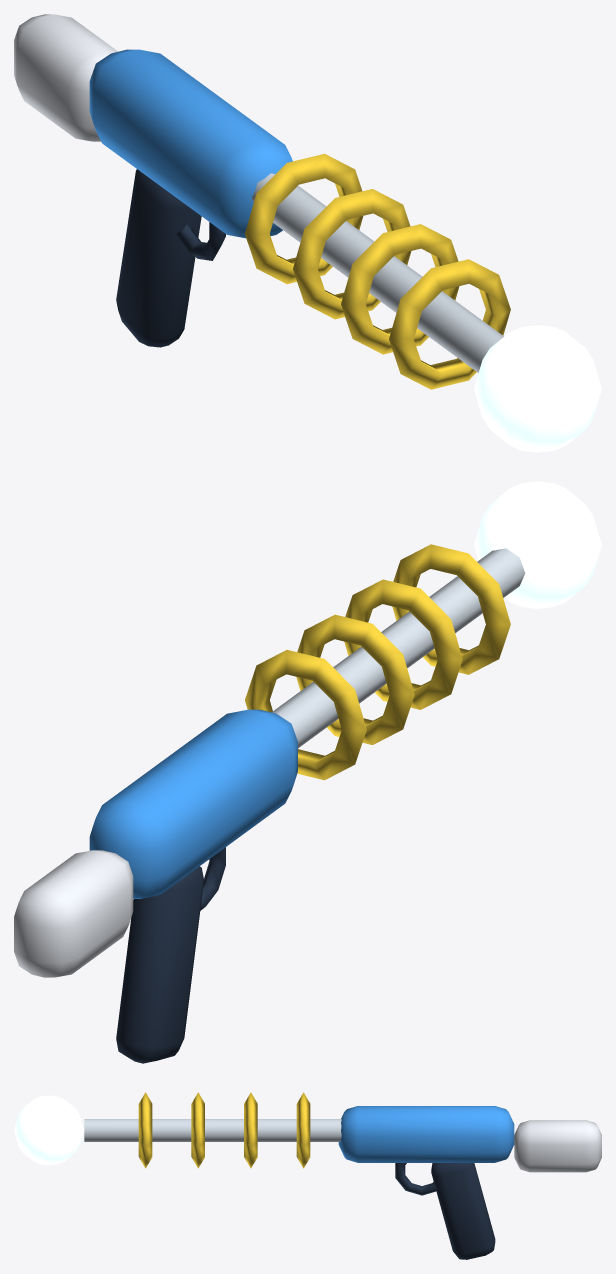
File: ChainZapper.fbx
3 views of the same model, one above another, from view 1: azimuth 30°, elevation 25°; view 2: azimuth 150°, elevation 25°; view 3: azimuth 270°, elevation 25° (orthographic). The views are drawn at different scales.
Visible parts, largest first — view 1: ChainZapper; view 2: ChainZapper; view 3: ChainZapper.
Boxes of the visible parts, <box> form: ChainZapper: <box>14,14,601,452</box>; ChainZapper: <box>14,481,601,1063</box>; ChainZapper: <box>14,1092,601,1259</box>.
Size of the model in its own units: 0.088 by 0.2026 by 0.67.
